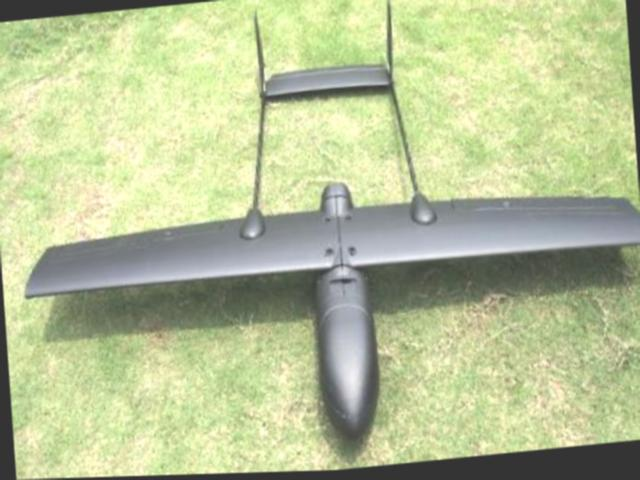uav: (1, 0, 640, 477)
